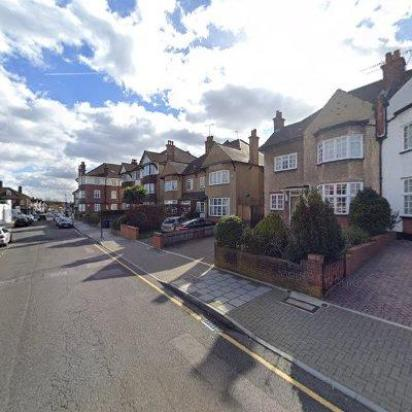moving-car: (38, 214, 46, 222)
stationary-car-offstreet: (173, 217, 217, 234), (162, 216, 192, 234)
stationary-car-onstreet: (0, 226, 12, 246), (56, 217, 72, 228), (15, 215, 29, 226)
